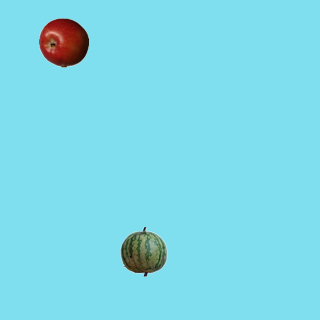Apple Braeburn: (38, 17, 88, 67)
Watermelon: (118, 226, 168, 276)
